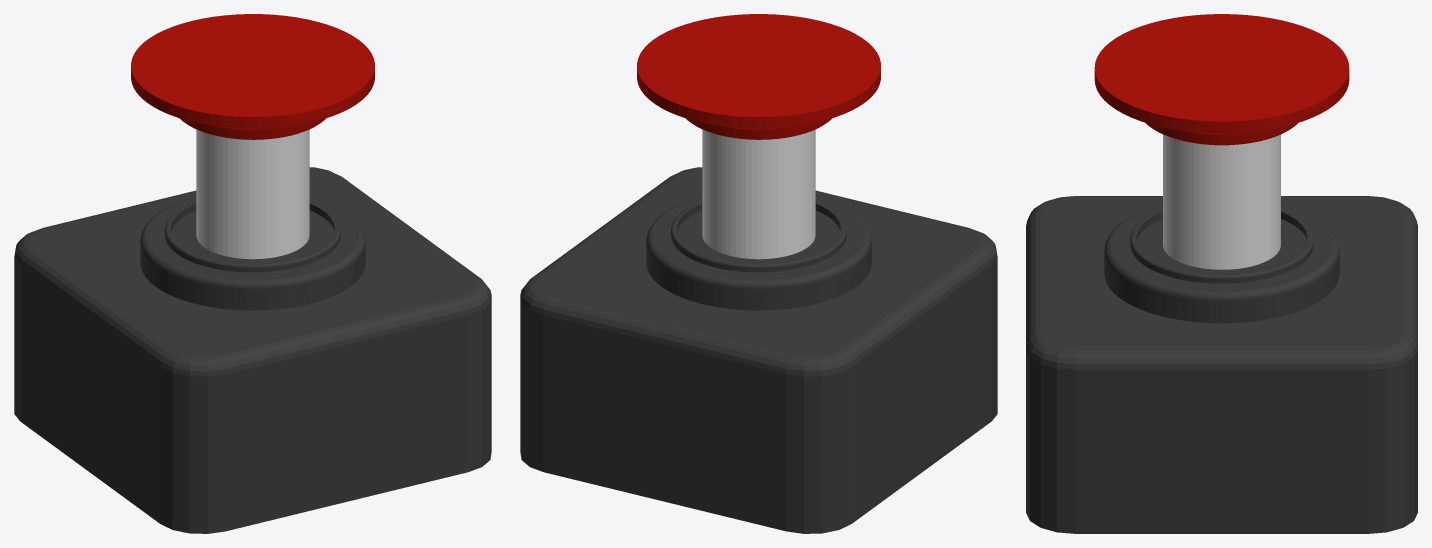
Rendered from Button.fbx.
3 renders of one model, left to right at view 1: azimuth 30°, elevation 25°; view 2: azimuth 150°, elevation 25°; view 3: azimuth 270°, elevation 25°, orthographic. The views are drawn at different scales.
Visible parts, largest first — view 1: Button, Switch; view 2: Button, Switch; view 3: Button, Switch.
Part boxes in pixels (<box>): Button: <box>14,167,491,533</box>; Switch: <box>131,14,374,259</box>; Button: <box>520,167,997,533</box>; Switch: <box>637,14,880,259</box>; Button: <box>1026,196,1417,533</box>; Switch: <box>1094,14,1349,269</box>.
Bounding box in the file's own units: 0.1 × 0.108 × 0.1.
